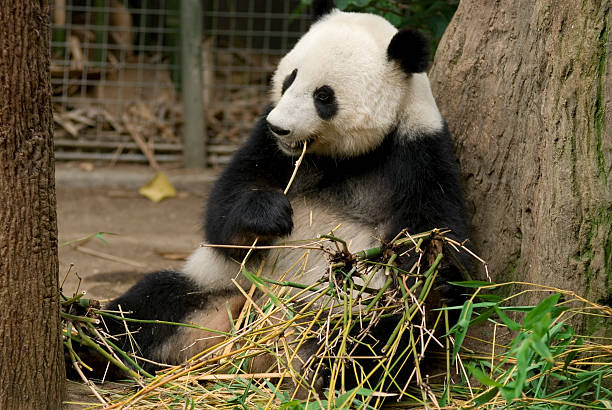panda: (256, 3, 458, 191)
